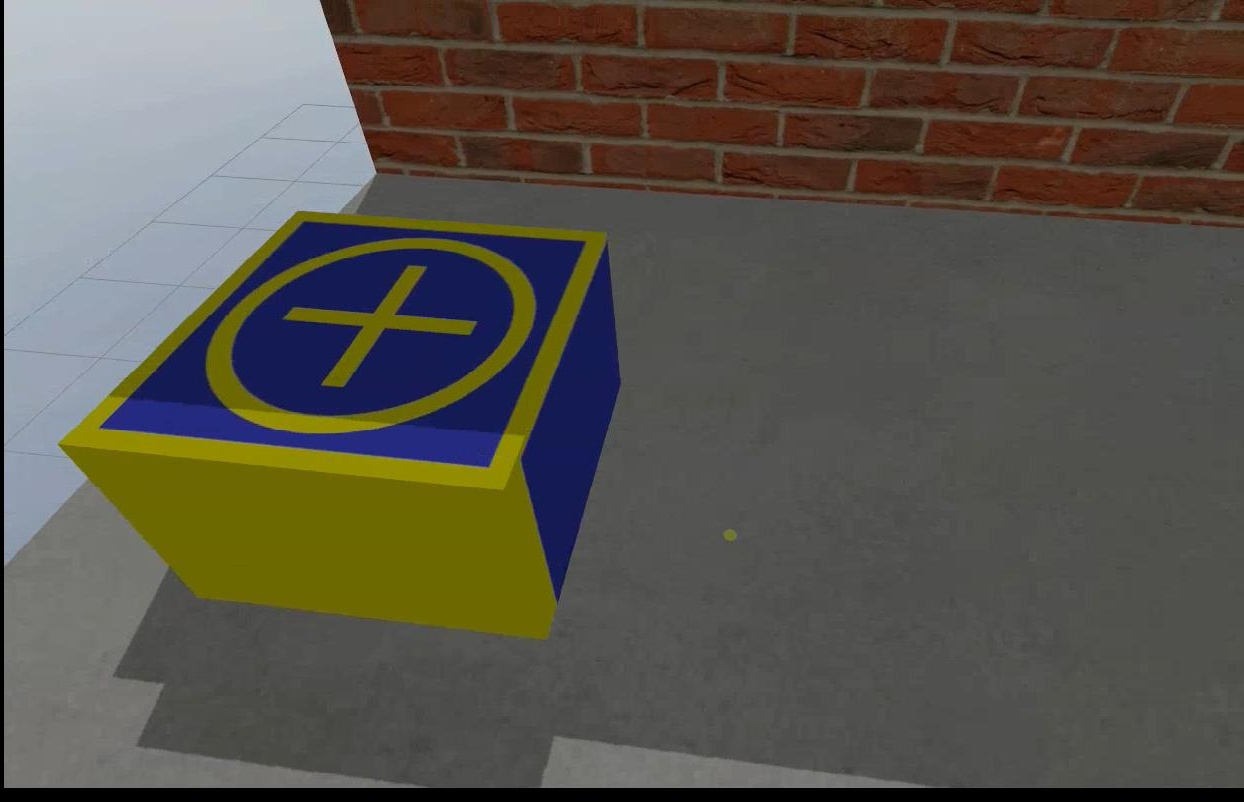small_base: (55, 216, 614, 492)
